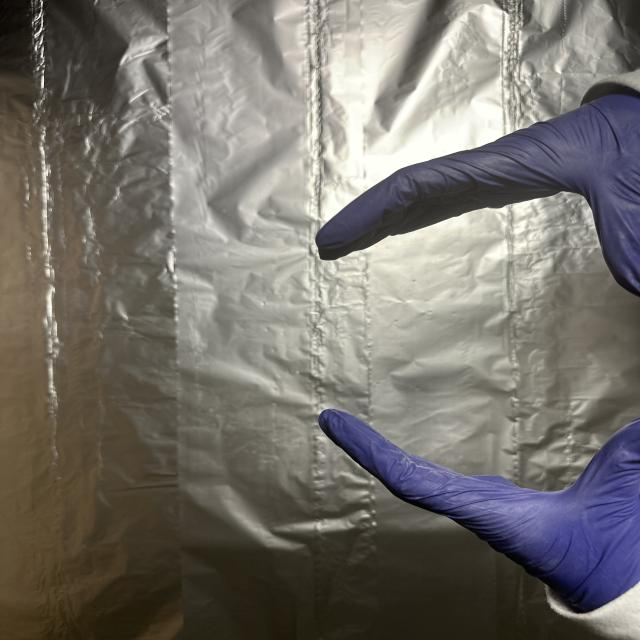gloves_contaminated: (316, 90, 640, 295), (319, 410, 640, 613)
